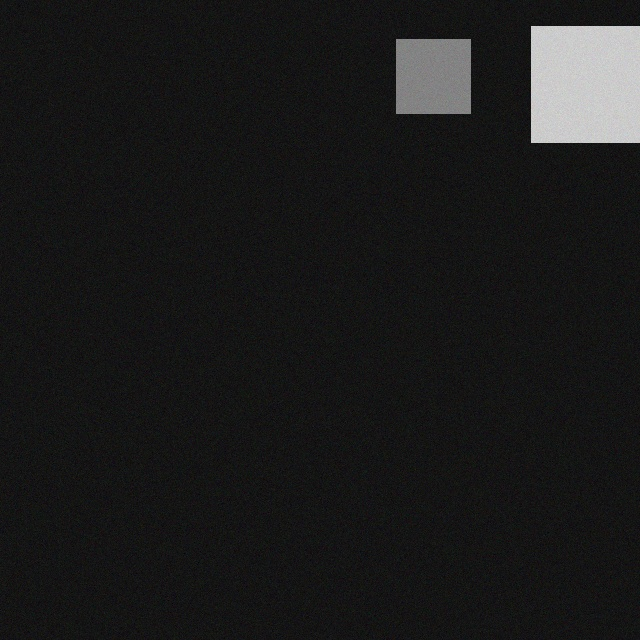square: (518, 25, 634, 141), (383, 38, 457, 112)
